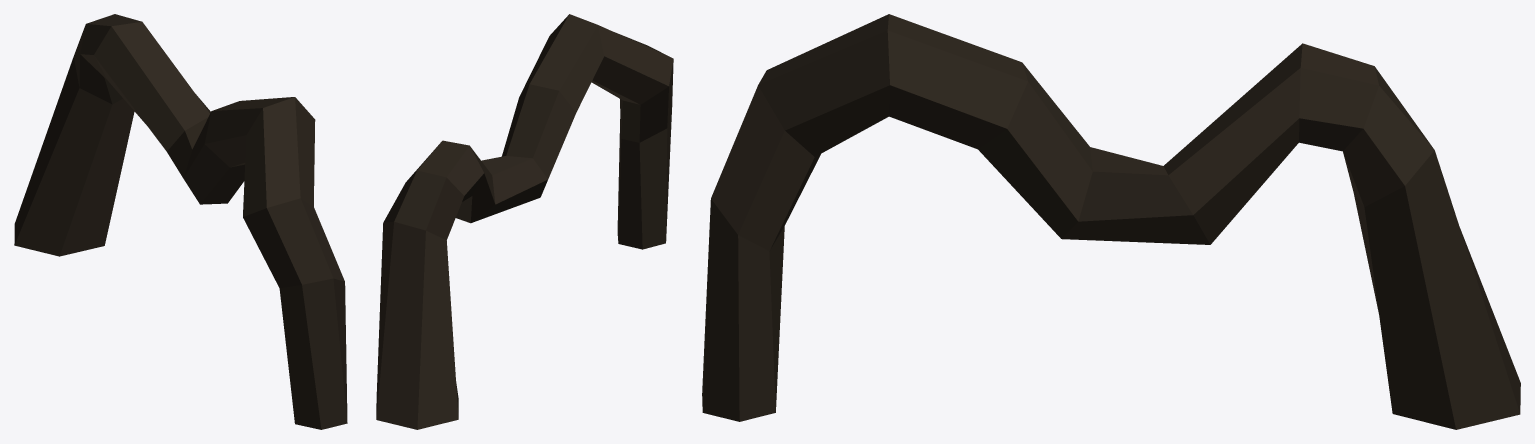
The model's file is synty-swamp-root-02.gltf.
3 views of the same model, side by side, from view 1: azimuth 30°, elevation 25°; view 2: azimuth 150°, elevation 25°; view 3: azimuth 270°, elevation 25° (orthographic). The views are drawn at different scales.
Parts seen in each view (by area): view 1: SM_Swamp_Root_02; view 2: SM_Swamp_Root_02; view 3: SM_Swamp_Root_02.
Boxes of the visible parts, bbox=[...] form: SM_Swamp_Root_02: bbox=[14, 14, 347, 429]; SM_Swamp_Root_02: bbox=[376, 14, 673, 429]; SM_Swamp_Root_02: bbox=[702, 14, 1520, 429].
Bounding box in the file's own units: 0.2102 × 0.4872 × 0.9209.
Materials: 1 (1 with a texture image).
